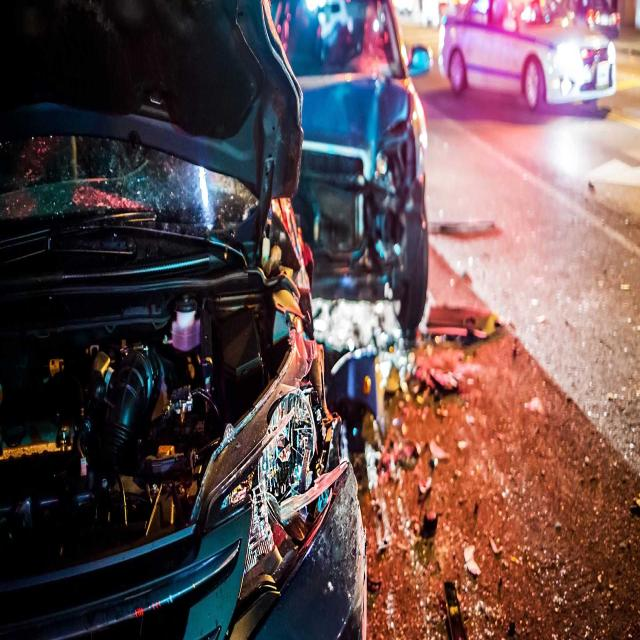crush: (0, 0, 366, 639), (292, 120, 422, 298)
